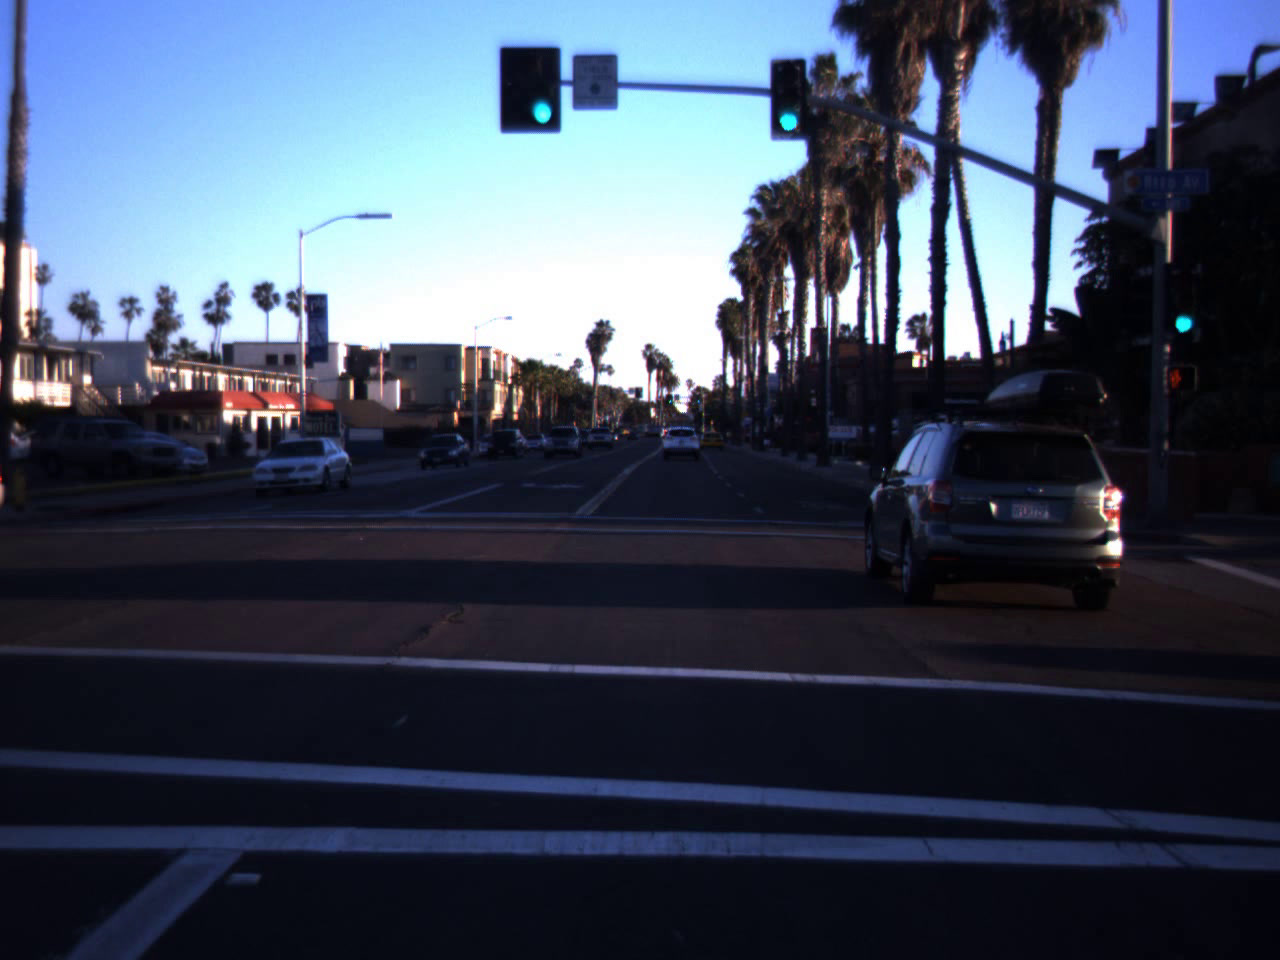go: (519, 41, 567, 131), (764, 58, 812, 138), (1164, 269, 1203, 339)
